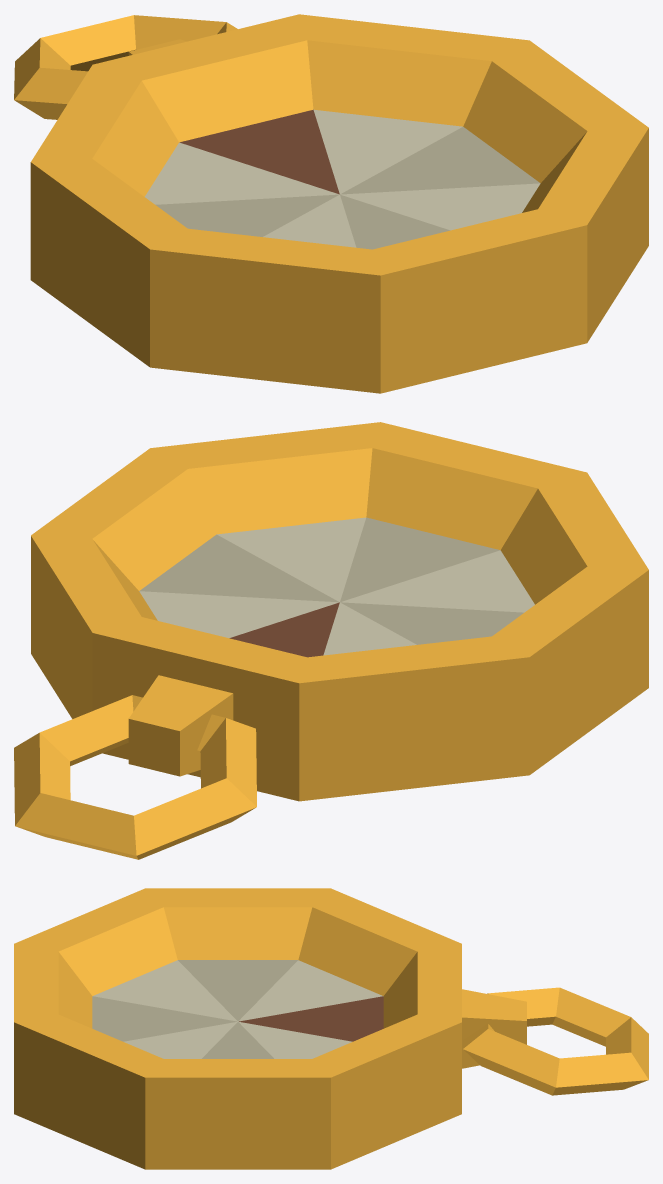
File: Compass.fbx
The picture shows the model from 3 angles, top to bottom: view 1: azimuth 30°, elevation 25°; view 2: azimuth 150°, elevation 25°; view 3: azimuth 270°, elevation 25°; orthographic projection. The views are drawn at different scales.
Parts seen in each view (by area): view 1: Compass; view 2: Compass; view 3: Compass.
Boxes of the visible parts, x1,y1,x2,y2 form: Compass: [14, 14, 648, 393]; Compass: [14, 422, 648, 859]; Compass: [14, 888, 648, 1169].
Bounding box in the file's own units: 12.27 × 2.78 × 17.39.
